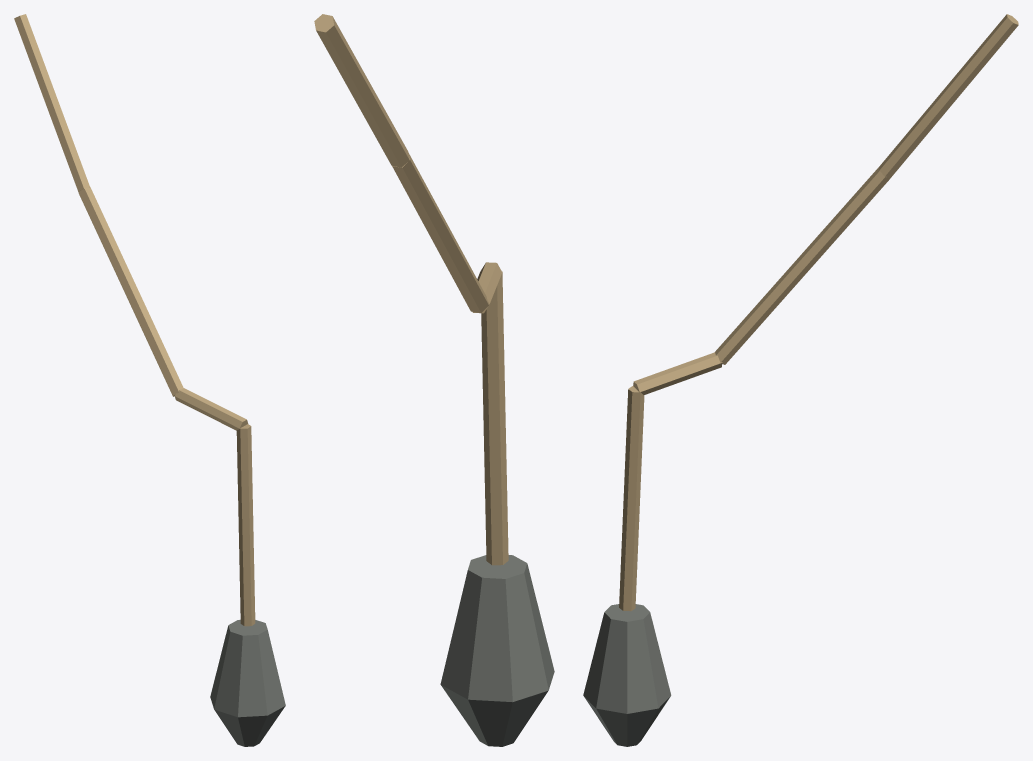
Rendered from lead_line.glb.
3 renders of one model, left to right at view 1: azimuth 30°, elevation 25°; view 2: azimuth 150°, elevation 25°; view 3: azimuth 270°, elevation 25°, orthographic. The views are drawn at different scales.
Visible parts, largest first — view 1: lead_line; view 2: lead_line; view 3: lead_line.
Part boxes in pixels (bbox=[...]): lead_line: bbox=[14, 14, 285, 746]; lead_line: bbox=[314, 14, 554, 746]; lead_line: bbox=[583, 14, 1018, 746].
Bounding box in the file's own units: 0.137 × 0.8348 × 0.4745.
